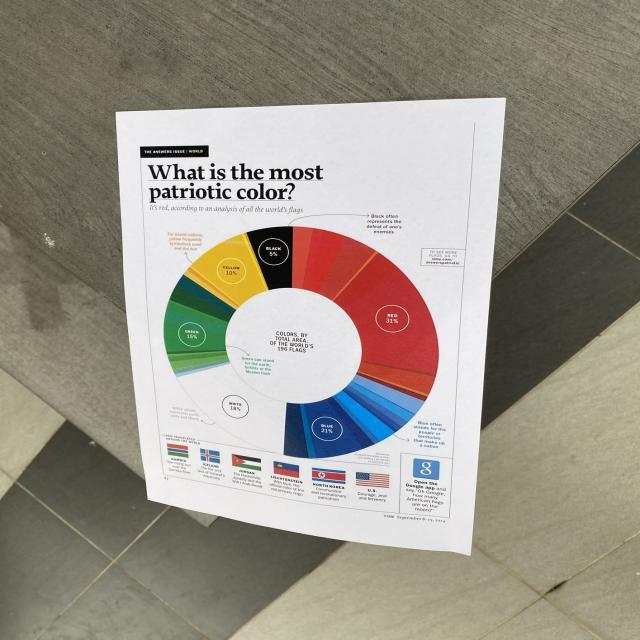document: (116, 99, 506, 554)
